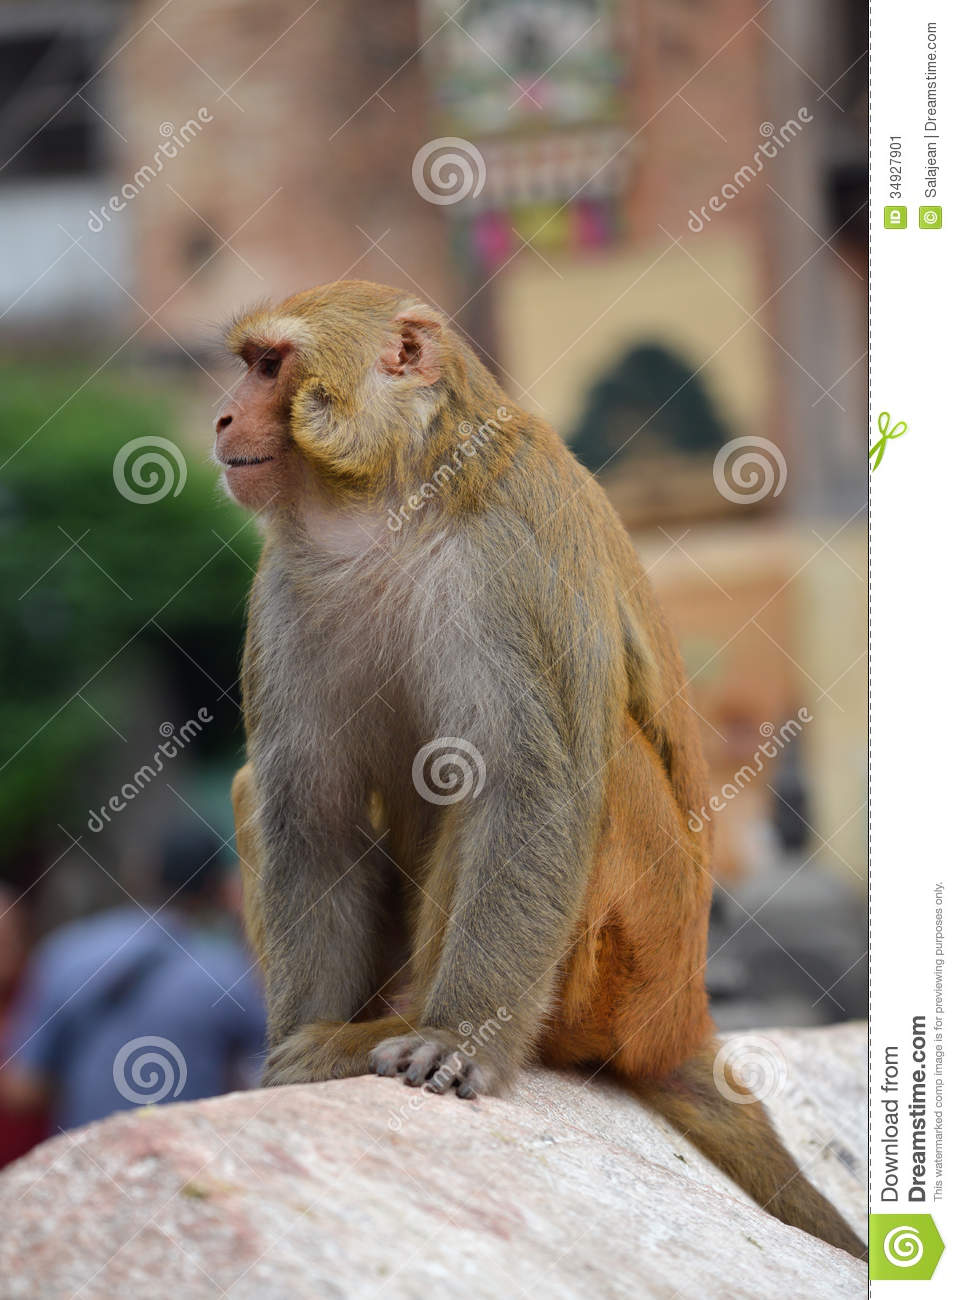monkey: (214, 265, 741, 1113)
